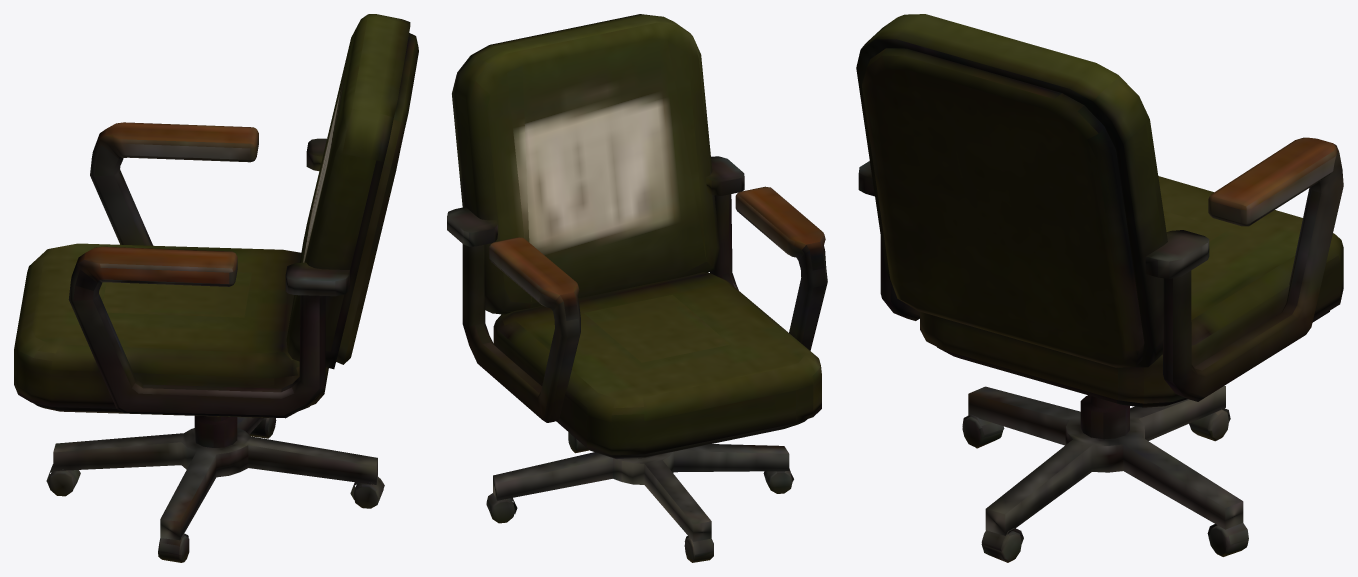
Rendered from OparetionRoom_AI_Prop.032.fbx.
3 views of the same model, side by side, from view 1: azimuth 30°, elevation 25°; view 2: azimuth 150°, elevation 25°; view 3: azimuth 270°, elevation 25° (orthographic). The views are drawn at different scales.
Parts seen in each view (by area): view 1: OparetionRoom_AI_Prop.032; view 2: OparetionRoom_AI_Prop.032; view 3: OparetionRoom_AI_Prop.032.
Boxes of the visible parts, left/top/right/bottom form: OparetionRoom_AI_Prop.032: left=14, top=14, right=418, bottom=562; OparetionRoom_AI_Prop.032: left=447, top=14, right=827, bottom=562; OparetionRoom_AI_Prop.032: left=856, top=14, right=1343, bottom=562.
Bounding box in the file's own units: 134 × 148 × 126.
